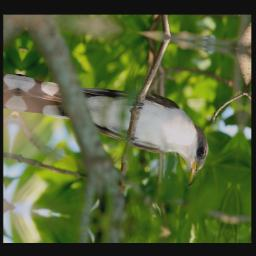Cuckoo: (10, 70, 217, 191)
